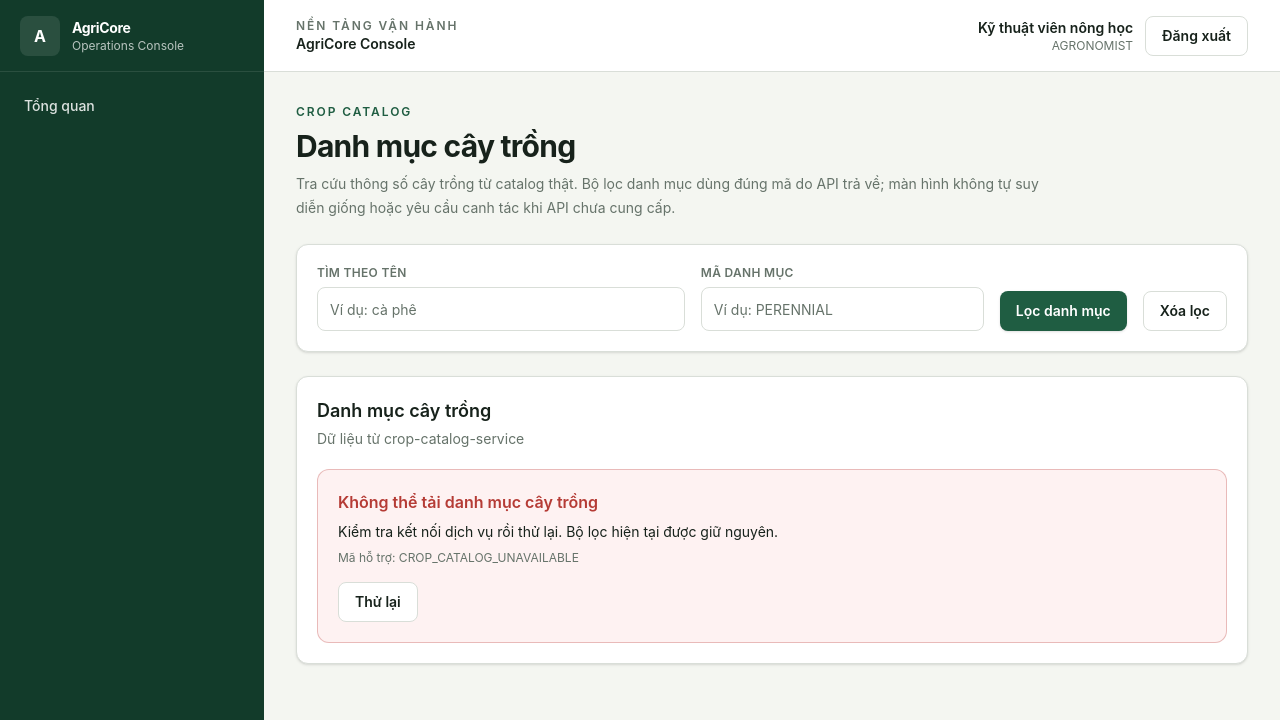
Crops page › keeps a recoverable shell for an unavailable catalog
Expected: the heading "Danh mục cây trồng" below "Crop catalog" is shown, [296, 128, 575, 164]
Expected: the message shows "Không thể tải danh mục cây trồng", [338, 492, 598, 512]
Click the button "Thử lại" at (378, 602), box [338, 582, 418, 622]
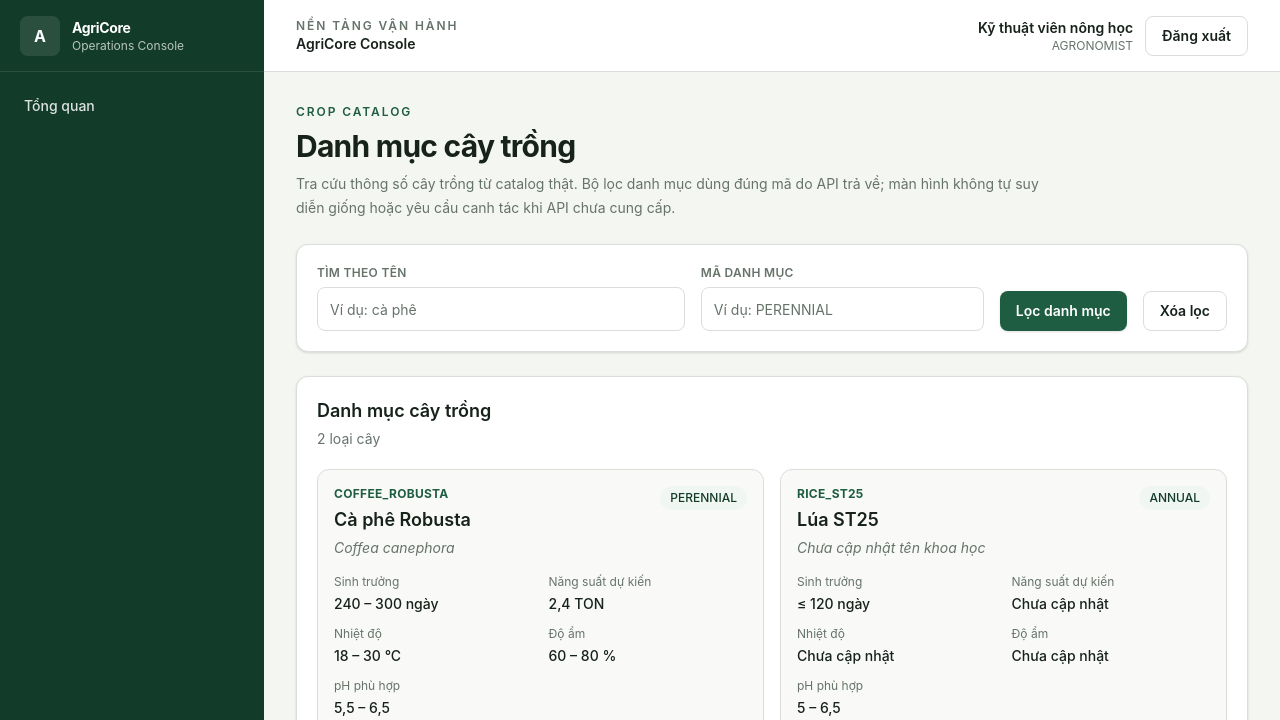
Now the heading "Cà phê Robusta" is shown, box [334, 506, 471, 534]
